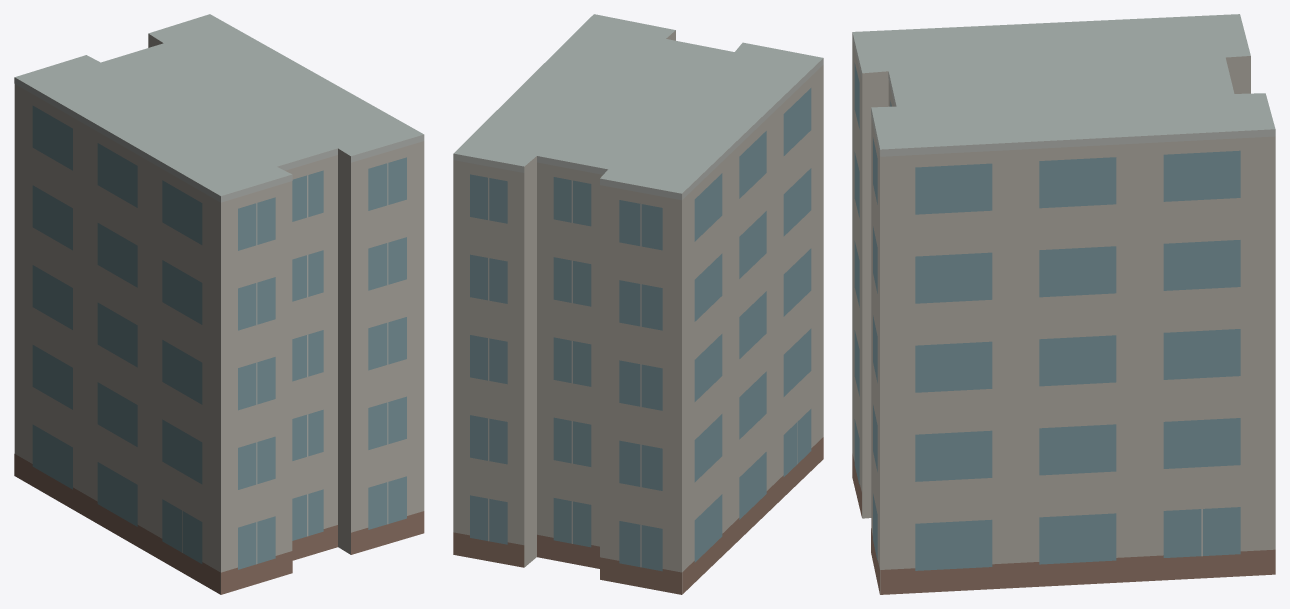
File: survey-upis-32733644.glb
The picture shows the model from 3 angles, left to right: view 1: azimuth 30°, elevation 25°; view 2: azimuth 150°, elevation 25°; view 3: azimuth 270°, elevation 25°; orthographic projection. The views are drawn at different scales.
Visible parts, largest first — view 1: survey-upis-32733644.tmp; view 2: survey-upis-32733644.tmp; view 3: survey-upis-32733644.tmp.
Part boxes in pixels (<box>): survey-upis-32733644.tmp: <box>14,14,424,594</box>; survey-upis-32733644.tmp: <box>453,14,823,594</box>; survey-upis-32733644.tmp: <box>852,14,1275,594</box>.
Size of the model in its own units: 9.8 by 15 by 12.93.
